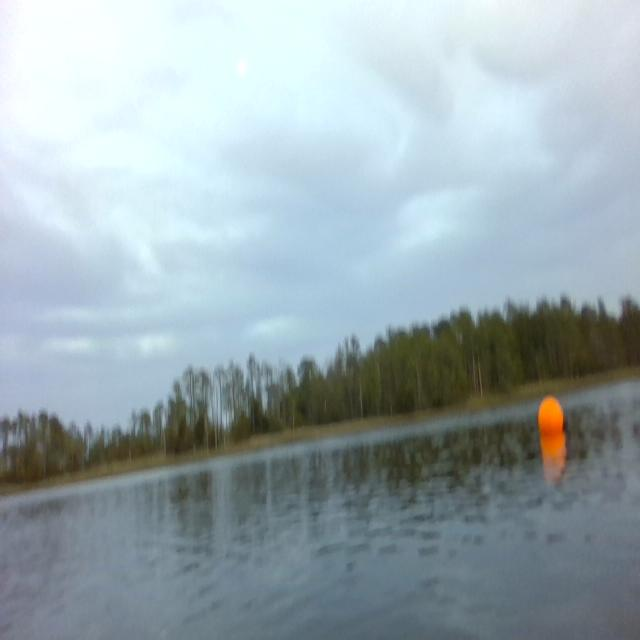Buoy: (537, 393, 570, 442)
